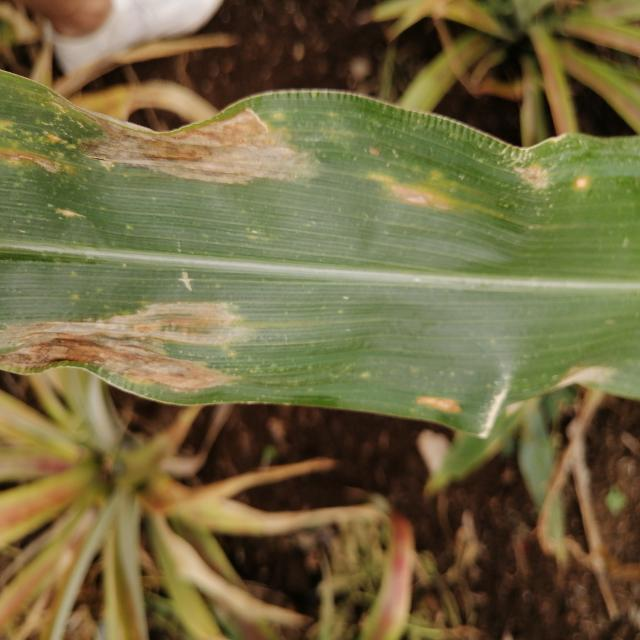Corn_Leaf_Blight: (0, 69, 640, 411)
